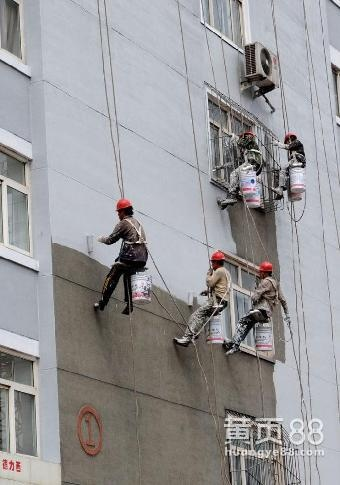red: (116, 197, 132, 219), (209, 250, 226, 270), (258, 259, 272, 278), (282, 131, 296, 146)
